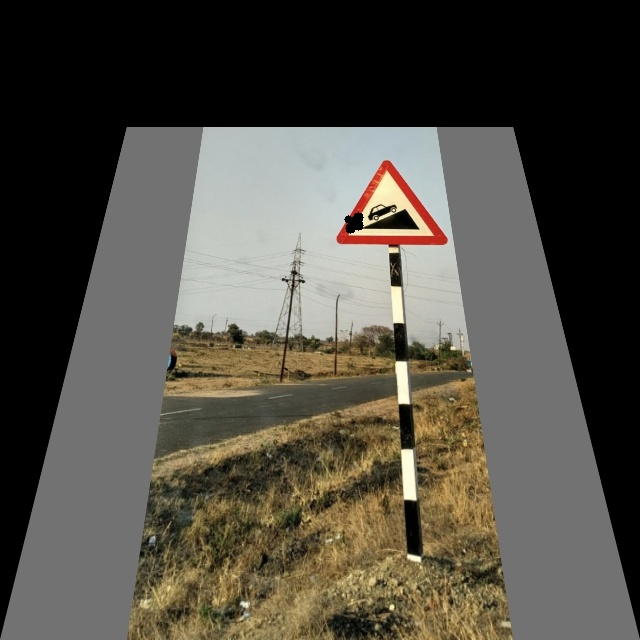Steep_Ascent: (329, 157, 452, 249)
